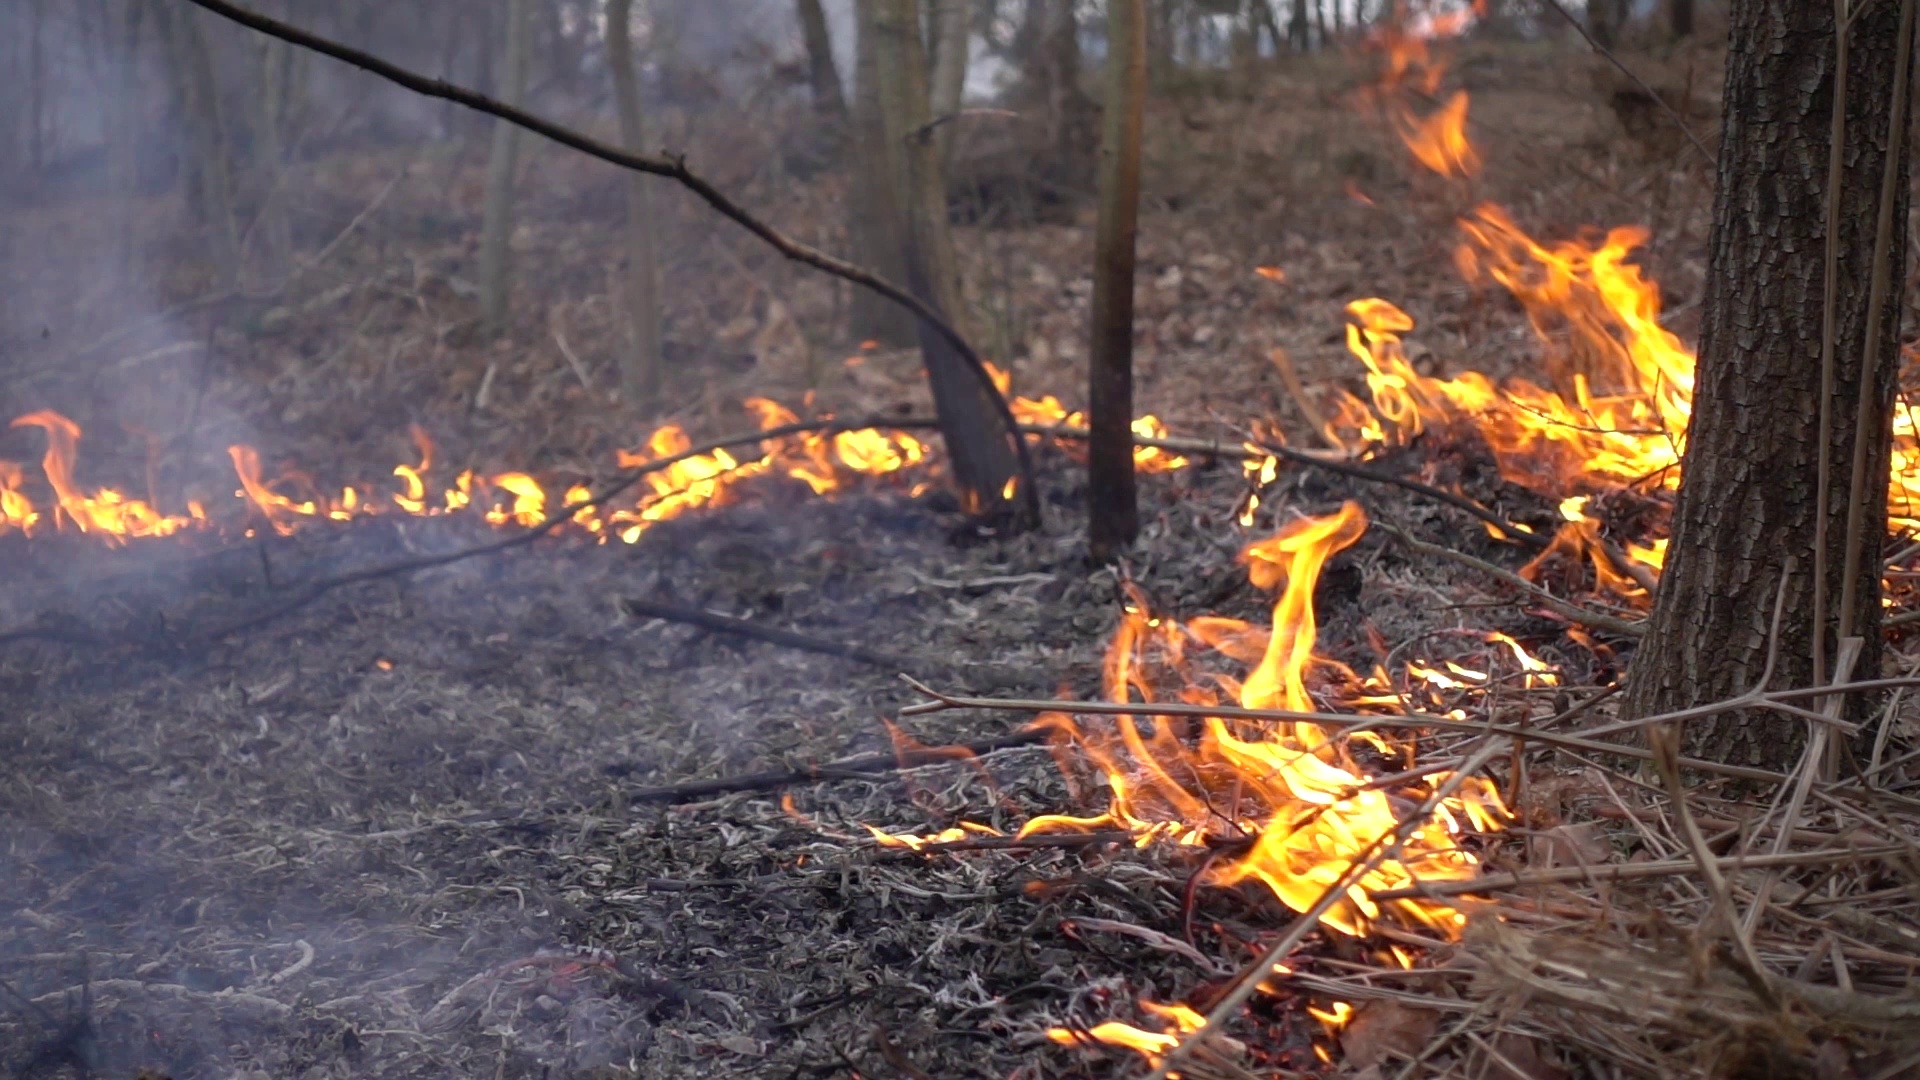fire: (1031, 495, 1505, 943), (1255, 224, 1695, 477), (634, 405, 918, 521), (1, 421, 169, 537), (400, 468, 542, 521), (1888, 402, 1920, 527), (1087, 1023, 1170, 1054), (1018, 394, 1064, 425), (1131, 411, 1164, 443), (1633, 535, 1664, 560), (1560, 492, 1586, 520)
